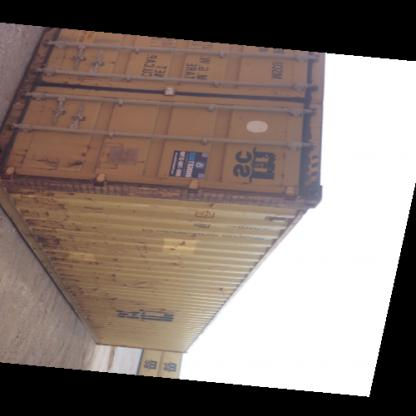Damage: (16, 178, 98, 260), (171, 228, 202, 251), (140, 237, 160, 272), (66, 281, 103, 299), (70, 142, 94, 169), (37, 151, 66, 172), (16, 139, 32, 168), (52, 262, 80, 277), (138, 275, 158, 292), (108, 286, 121, 310), (91, 320, 113, 333), (128, 203, 146, 215), (171, 255, 186, 267), (217, 281, 230, 294), (134, 298, 150, 308), (142, 224, 158, 233), (109, 268, 119, 282), (162, 304, 174, 314), (113, 255, 126, 262), (122, 280, 132, 288)
